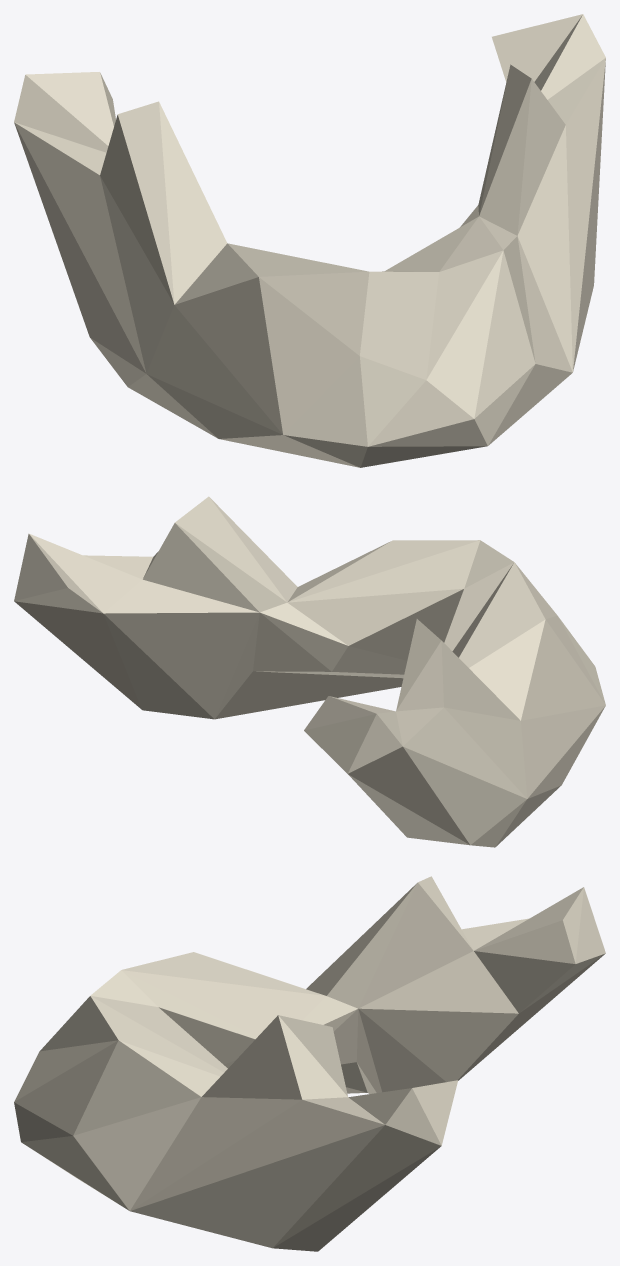
Rendered from JawBone.fbx.
3 renders of one model, top to bottom at view 1: azimuth 30°, elevation 25°; view 2: azimuth 150°, elevation 25°; view 3: azimuth 270°, elevation 25°, orthographic. The views are drawn at different scales.
Visible parts, largest first — view 1: JawBone; view 2: JawBone; view 3: JawBone.
Boxes of the visible parts, x1,y1,x2,y2 form: JawBone: (14,14,605,467); JawBone: (14,496,605,847); JawBone: (14,876,605,1251).
Bounding box in the file's own units: 63.2 × 31.28 × 69.59.
